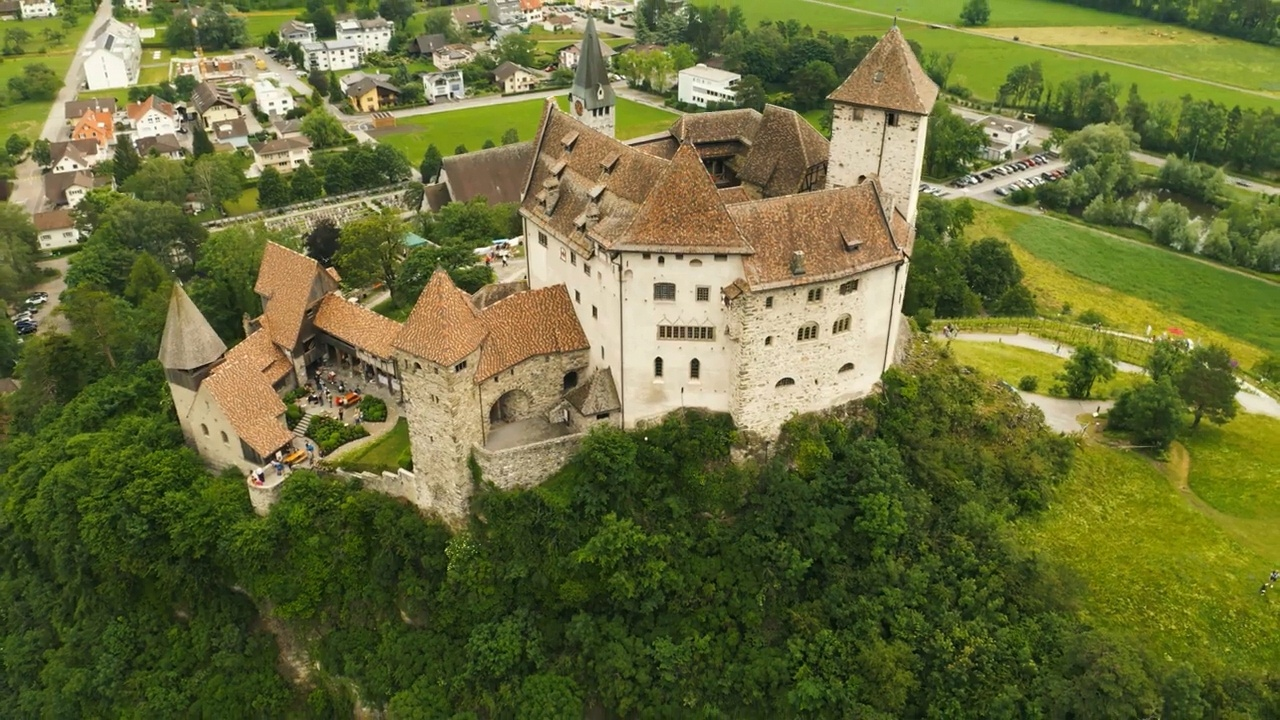araba: (963, 173, 978, 184), (1041, 171, 1057, 181), (994, 167, 1011, 176), (924, 185, 939, 195), (971, 171, 985, 181), (950, 179, 967, 187), (979, 170, 994, 178), (994, 187, 1009, 195)
insan: (306, 449, 315, 467), (352, 411, 361, 428), (501, 255, 510, 268), (338, 406, 345, 421), (327, 392, 333, 408)
